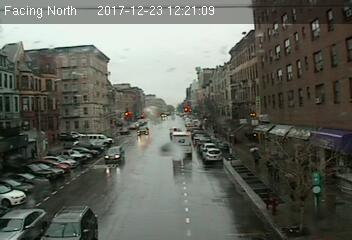car: (104, 147, 125, 163), (203, 147, 222, 161), (136, 126, 149, 136)
truck: (171, 131, 193, 158)
